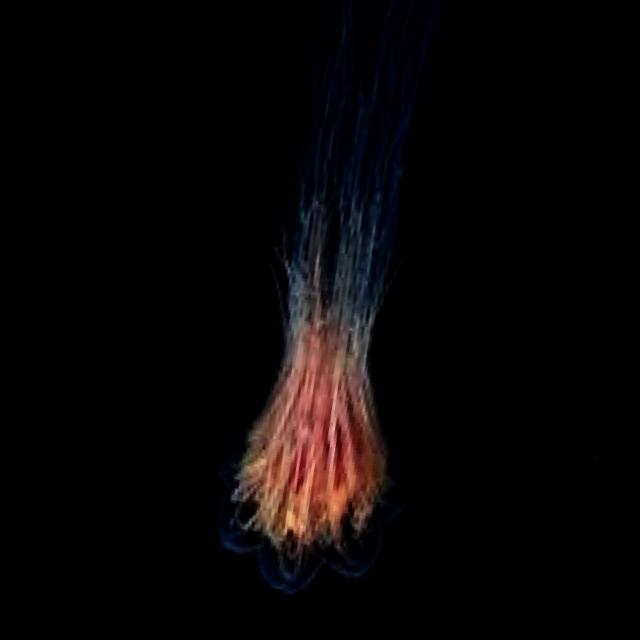Jellyfish: (160, 0, 493, 620)
